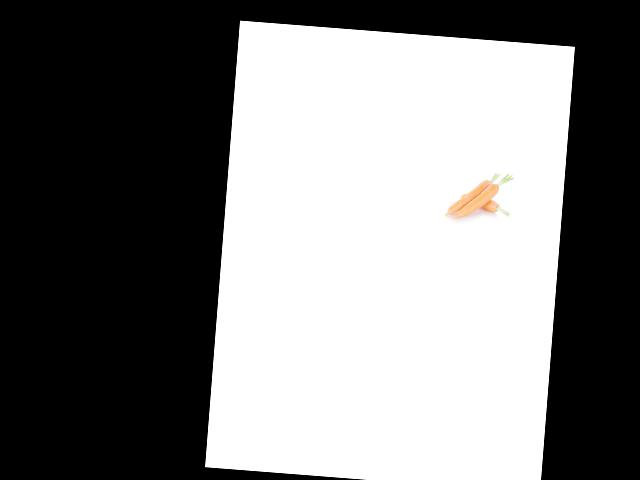carrot: (454, 190, 508, 214)
